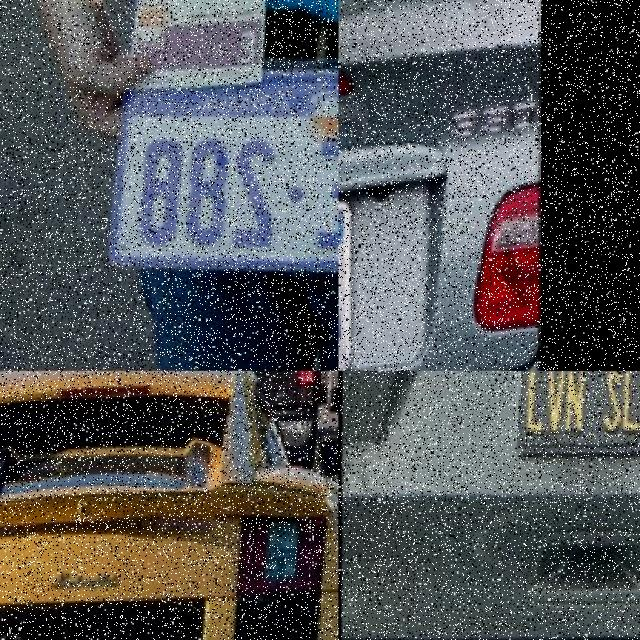licenseplate: (120, 88, 338, 294), (338, 208, 442, 370), (515, 371, 640, 460)
